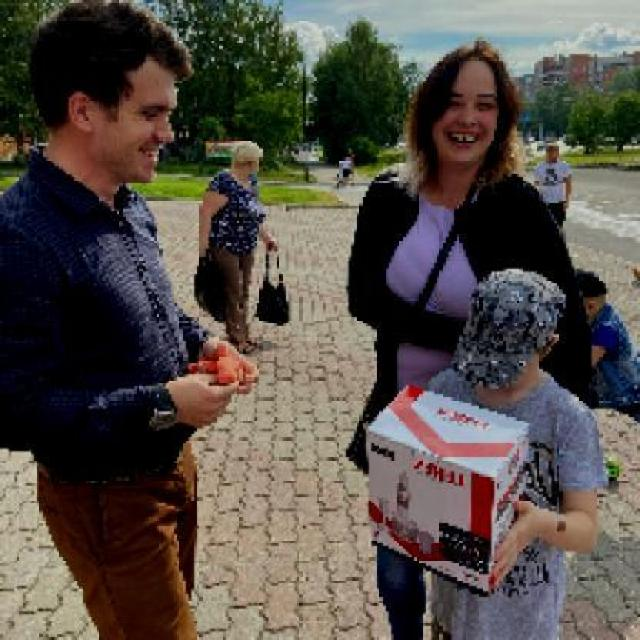child: (360, 265, 609, 638)
